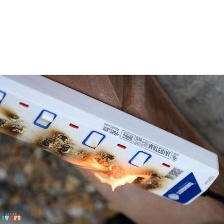three_eye_plug: (0, 74, 221, 207)
